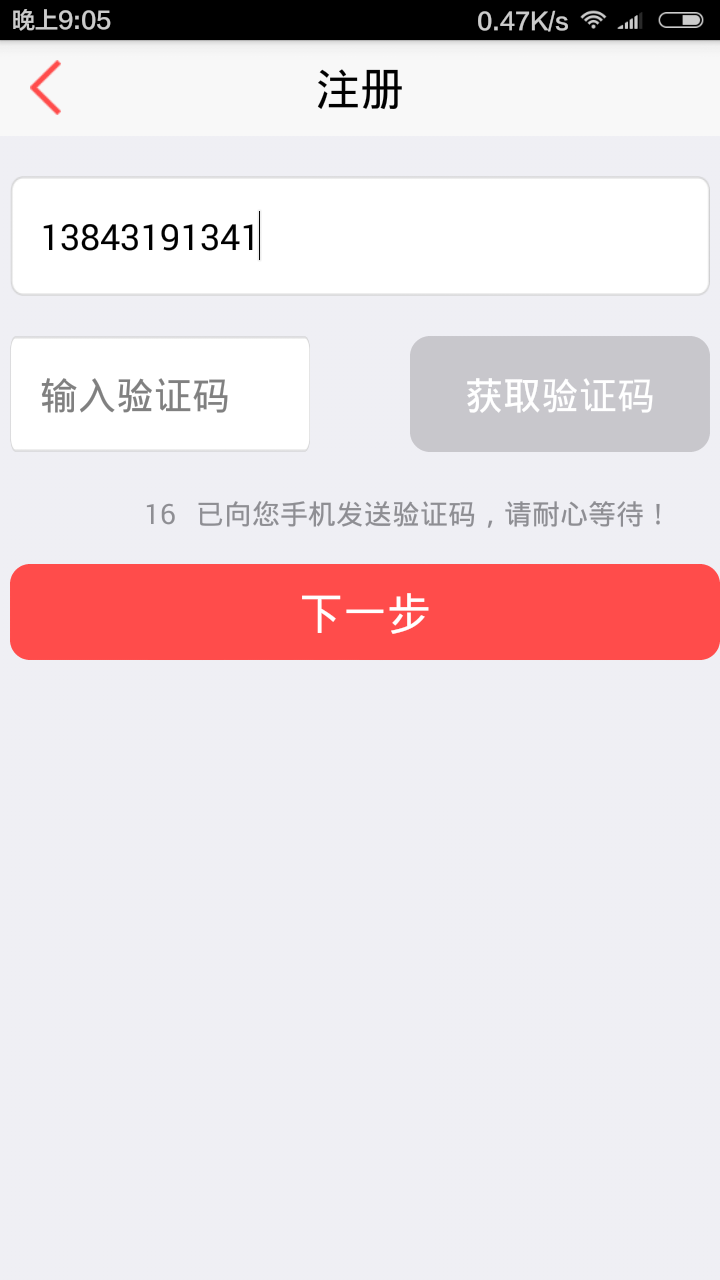button: (8, 553, 720, 671), (400, 330, 714, 457)
imgbutton: (14, 50, 83, 123)
textview: (8, 173, 717, 307), (6, 327, 321, 458)
